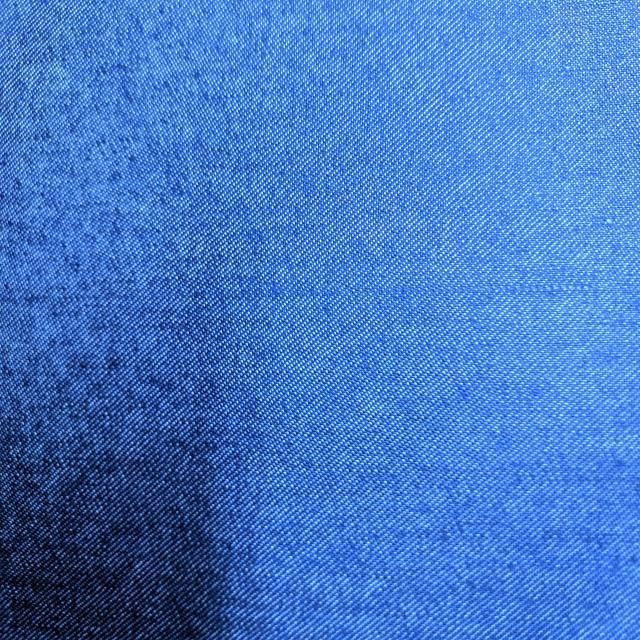Line: (163, 271, 528, 295)
